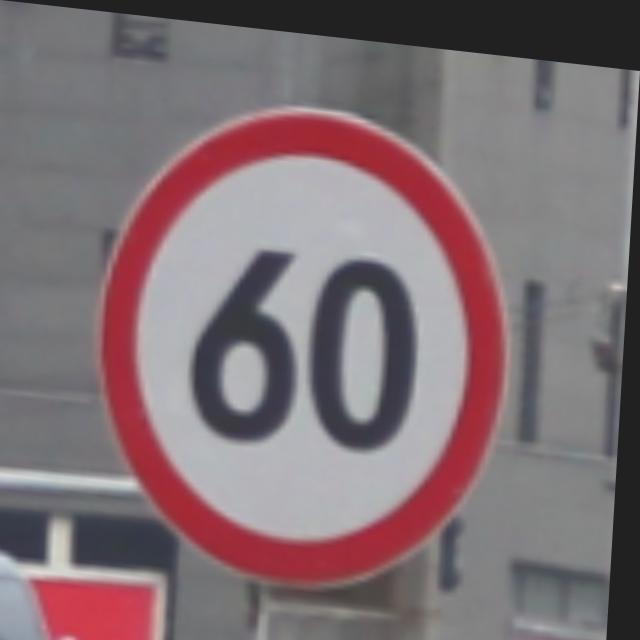limit60: (84, 74, 533, 599)
